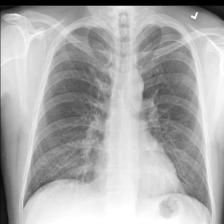normal: (20, 20, 214, 215)
